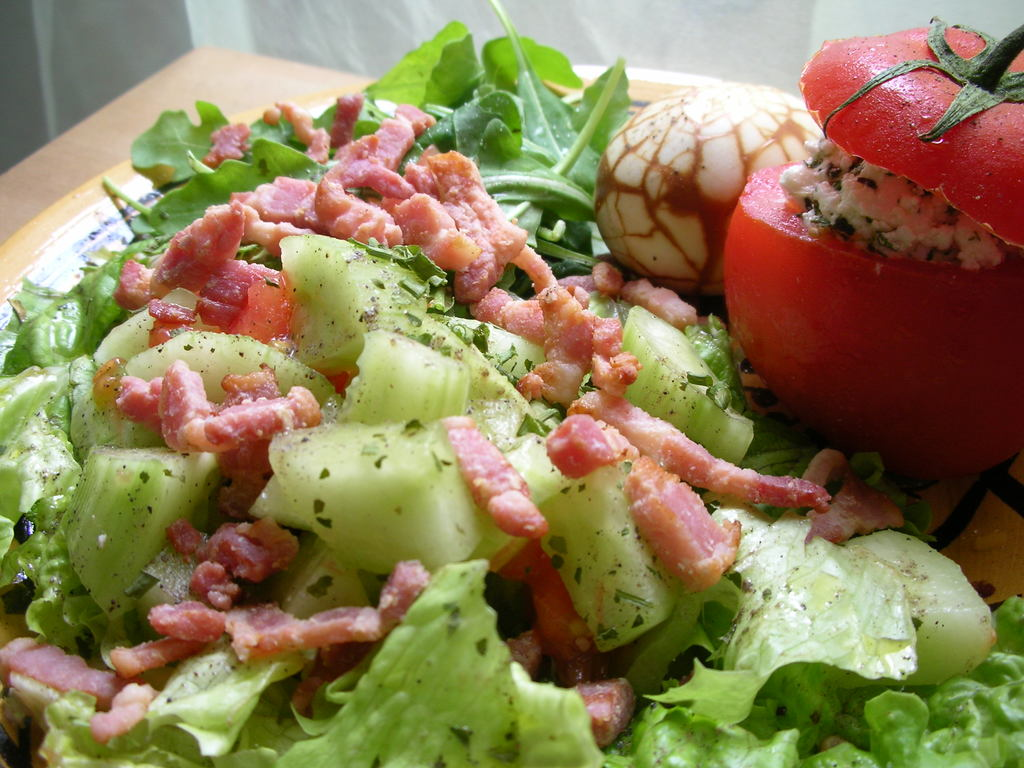Tomato: (724, 16, 1024, 474)
